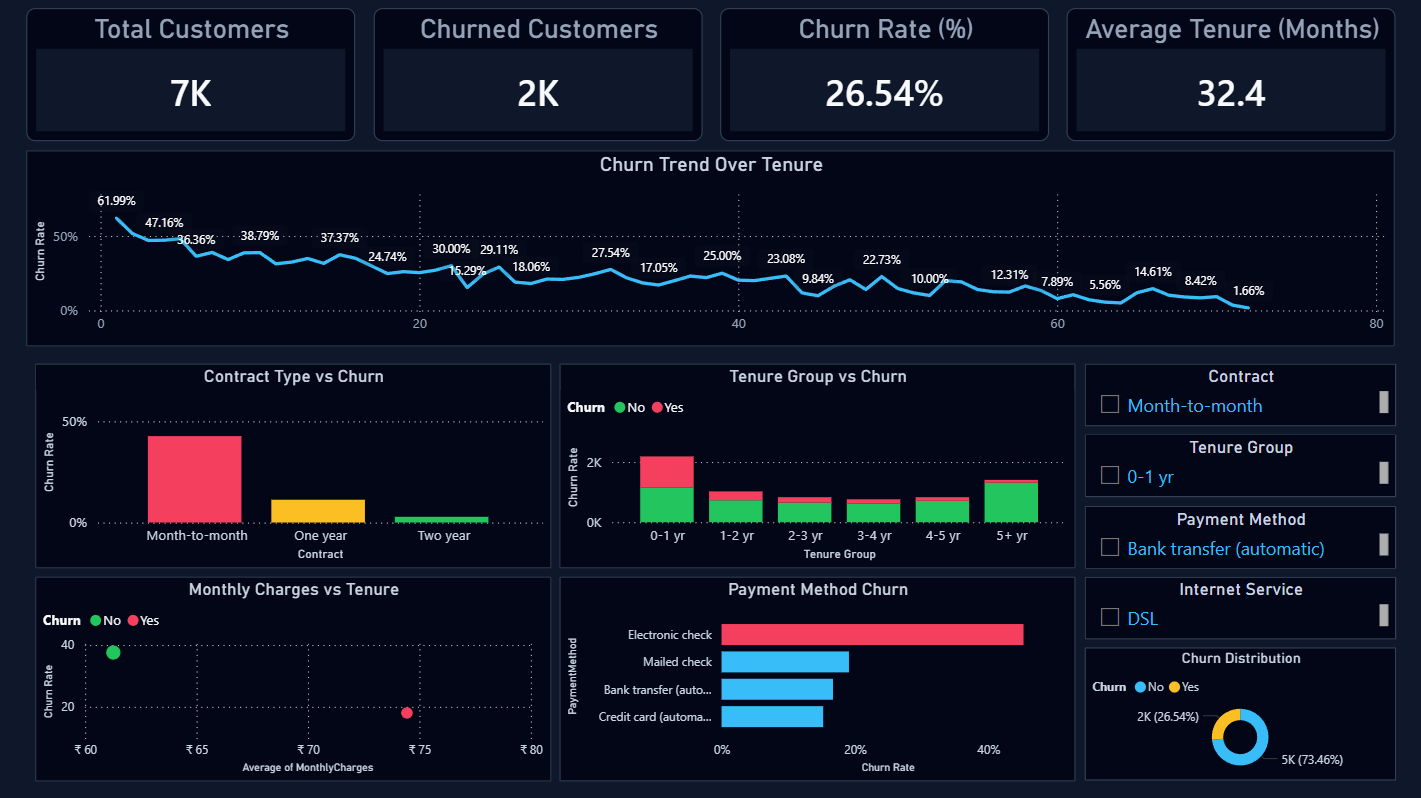

This screenshot's page, from the dashboard's own definition file:
{"tool":"powerbi","page":{"name":"Page 1","canvas":[1280,720],"ordinal":0},"visuals":[{"type":"cardVisual","title":"Average Tenure (Months)","fields":{"Data":["cleaned_churn_data.Average Tenure"]},"box":[960,8,296,120],"z":0},{"type":"cardVisual","title":"Churn Rate (%)","fields":{"Data":["cleaned_churn_data.Churn Rate %"]},"box":[648,8,296,120],"z":1000},{"type":"cardVisual","title":"Churned Customers","fields":{"Data":["cleaned_churn_data.Churned Customers"]},"box":[336,8,296,120],"z":2000},{"type":"cardVisual","title":"Total Customers","fields":{"Data":["cleaned_churn_data.Total Customers"]},"box":[24,8,296,120],"z":3000},{"type":"lineChart","title":"Churn Trend Over Tenure","fields":{"Category":["cleaned_churn_data.tenure"],"Y":["cleaned_churn_data.Churn Rate %"]},"box":[24,136,1232,176],"z":4000},{"type":"clusteredColumnChart","title":"Contract Type vs Churn","fields":{"Category":["cleaned_churn_data.Contract"],"Y":["cleaned_churn_data.Churn Rate %"]},"box":[32,328,464,184],"z":5000},{"type":"columnChart","title":"Tenure Group vs Churn","fields":{"Series":["cleaned_churn_data.Churn"],"Y":["CountNonNull(cleaned_churn_data.Churn)"],"Category":["cleaned_churn_data.Tenure Group"]},"box":[504,328,464,184],"z":6000},{"type":"scatterChart","title":"Monthly Charges vs Tenure","fields":{"X":["Avg(cleaned_churn_data.MonthlyCharges)"],"Y":["Avg(cleaned_churn_data.tenure)"],"Series":["cleaned_churn_data.Churn"],"Size":["Avg(cleaned_churn_data.TotalCharges)"]},"box":[32,520,464,184],"z":7000},{"type":"barChart","title":"Payment Method Churn","fields":{"Category":["cleaned_churn_data.PaymentMethod"],"Y":["cleaned_churn_data.Churn Rate %"]},"box":[504,520,464,184],"z":8000},{"type":"slicer","title":"Contract","fields":{"Values":["cleaned_churn_data.Contract"]},"box":[976,328,280,56],"z":9000},{"type":"slicer","title":"Internet Service","fields":{"Values":["cleaned_churn_data.InternetService"]},"box":[976,520,280,56],"z":10000},{"type":"slicer","title":"Tenure Group","fields":{"Values":["cleaned_churn_data.TenureGroup"]},"box":[976,392,280,56],"z":11000},{"type":"slicer","title":"Payment Method","fields":{"Values":["cleaned_churn_data.PaymentMethod"]},"box":[976,456,280,56],"z":12000},{"type":"donutChart","title":"Churn Distribution","fields":{"Category":["cleaned_churn_data.Churn"],"Y":["cleaned_churn_data.Total Customers"]},"box":[976,584,280,120],"z":13000}]}

Visuals, with their boxes in screenshot pixels (x1, y1, x2, y2), scaled from the page's 1280x720 canvas onto the 1421x798 screenshot:
"Average Tenure (Months)" cardVisual: [x1=1066, y1=9, x2=1394, y2=142]
"Churn Rate (%)" cardVisual: [x1=719, y1=9, x2=1048, y2=142]
"Churned Customers" cardVisual: [x1=373, y1=9, x2=702, y2=142]
"Total Customers" cardVisual: [x1=27, y1=9, x2=355, y2=142]
"Churn Trend Over Tenure" lineChart: [x1=27, y1=151, x2=1394, y2=346]
"Contract Type vs Churn" clusteredColumnChart: [x1=36, y1=364, x2=551, y2=567]
"Tenure Group vs Churn" columnChart: [x1=560, y1=364, x2=1075, y2=567]
"Monthly Charges vs Tenure" scatterChart: [x1=36, y1=576, x2=551, y2=780]
"Payment Method Churn" barChart: [x1=560, y1=576, x2=1075, y2=780]
"Contract" slicer: [x1=1084, y1=364, x2=1394, y2=426]
"Internet Service" slicer: [x1=1084, y1=576, x2=1394, y2=638]
"Tenure Group" slicer: [x1=1084, y1=434, x2=1394, y2=497]
"Payment Method" slicer: [x1=1084, y1=505, x2=1394, y2=567]
"Churn Distribution" donutChart: [x1=1084, y1=647, x2=1394, y2=780]
